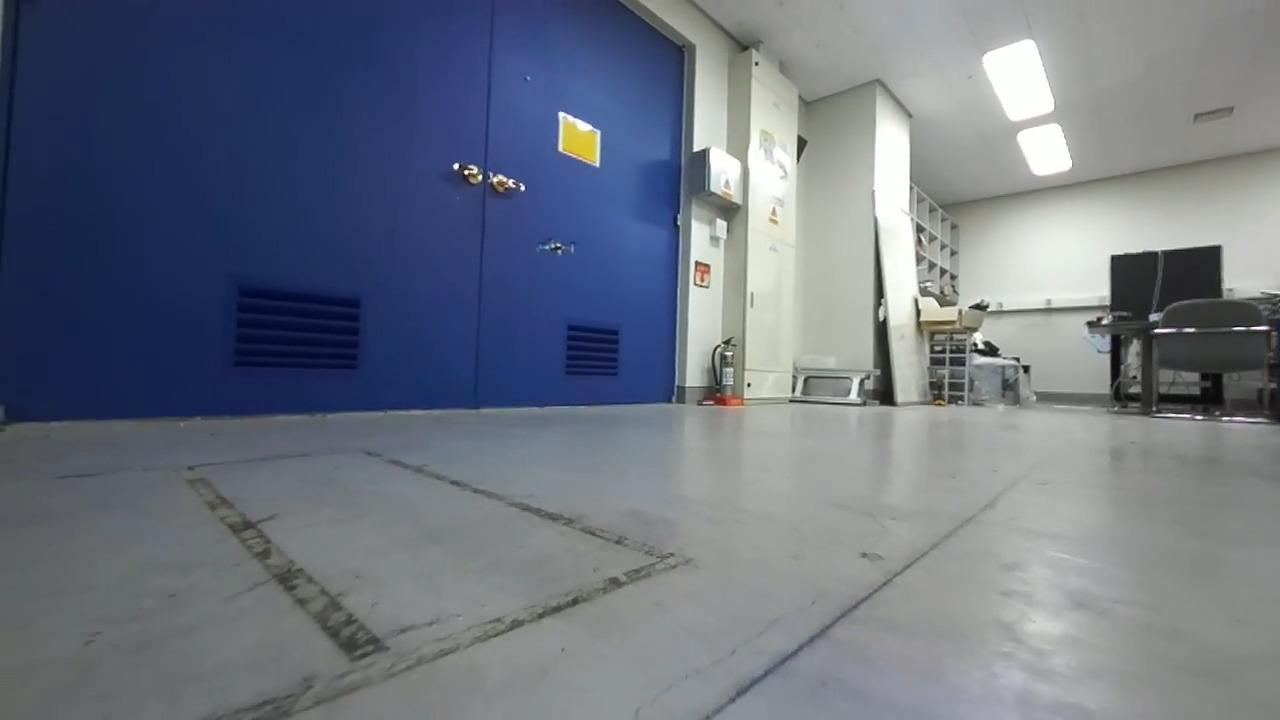crazyflie: (529, 232, 580, 260)
